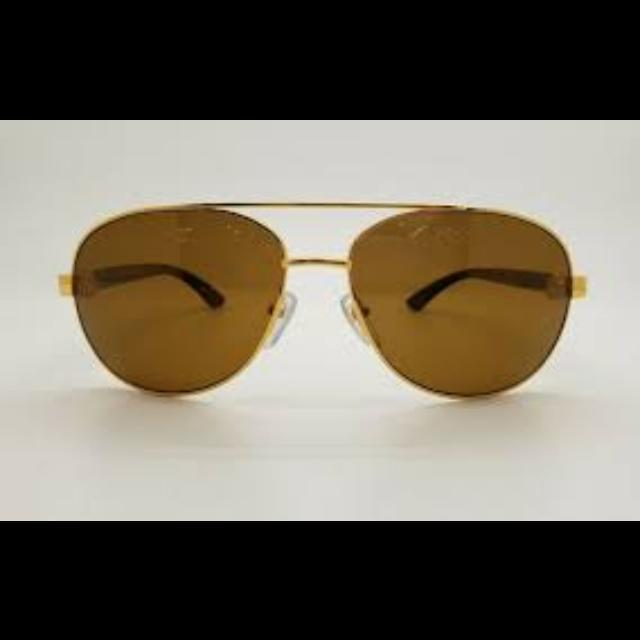glasses: (39, 174, 610, 398)
